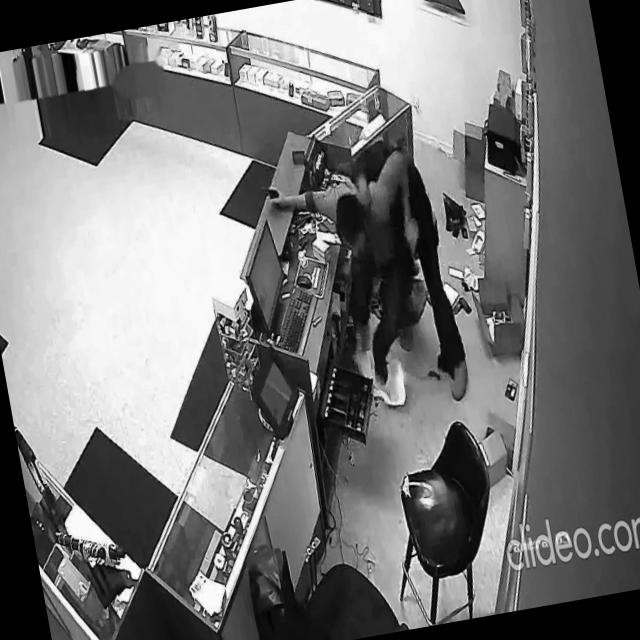gun: (259, 183, 281, 205)
person: (344, 128, 473, 412)
person with a gun: (256, 146, 446, 410)
